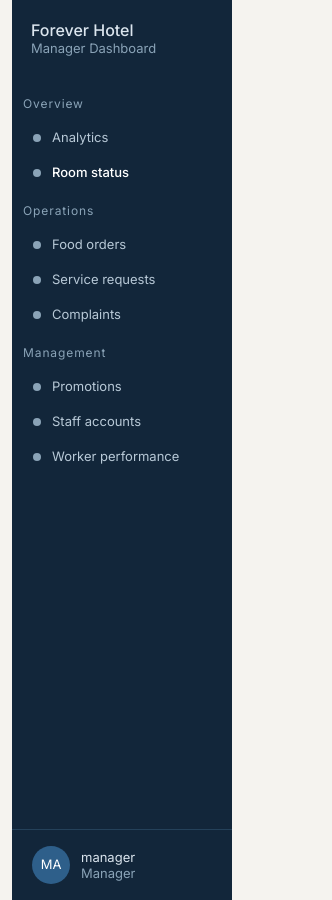
Scenario: Dashboard shell › keeps logout retryable when the server fails
Click the button named "Open account menu": [122, 865] box [12, 830, 232, 899]
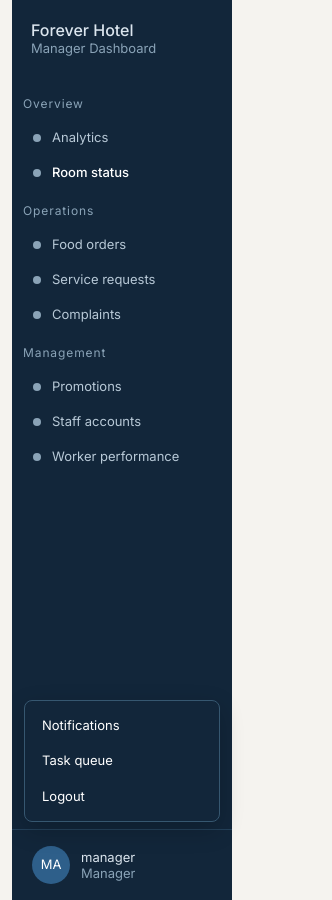
Click the button "Logout": [122, 796] box [32, 778, 212, 814]
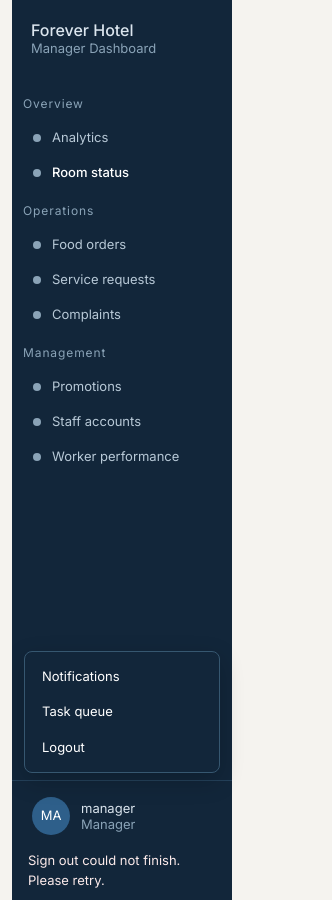
Check: the button "Logout" is enabled, box [32, 730, 212, 765]
Check: the message shows "Please retry", box [28, 852, 180, 888]
